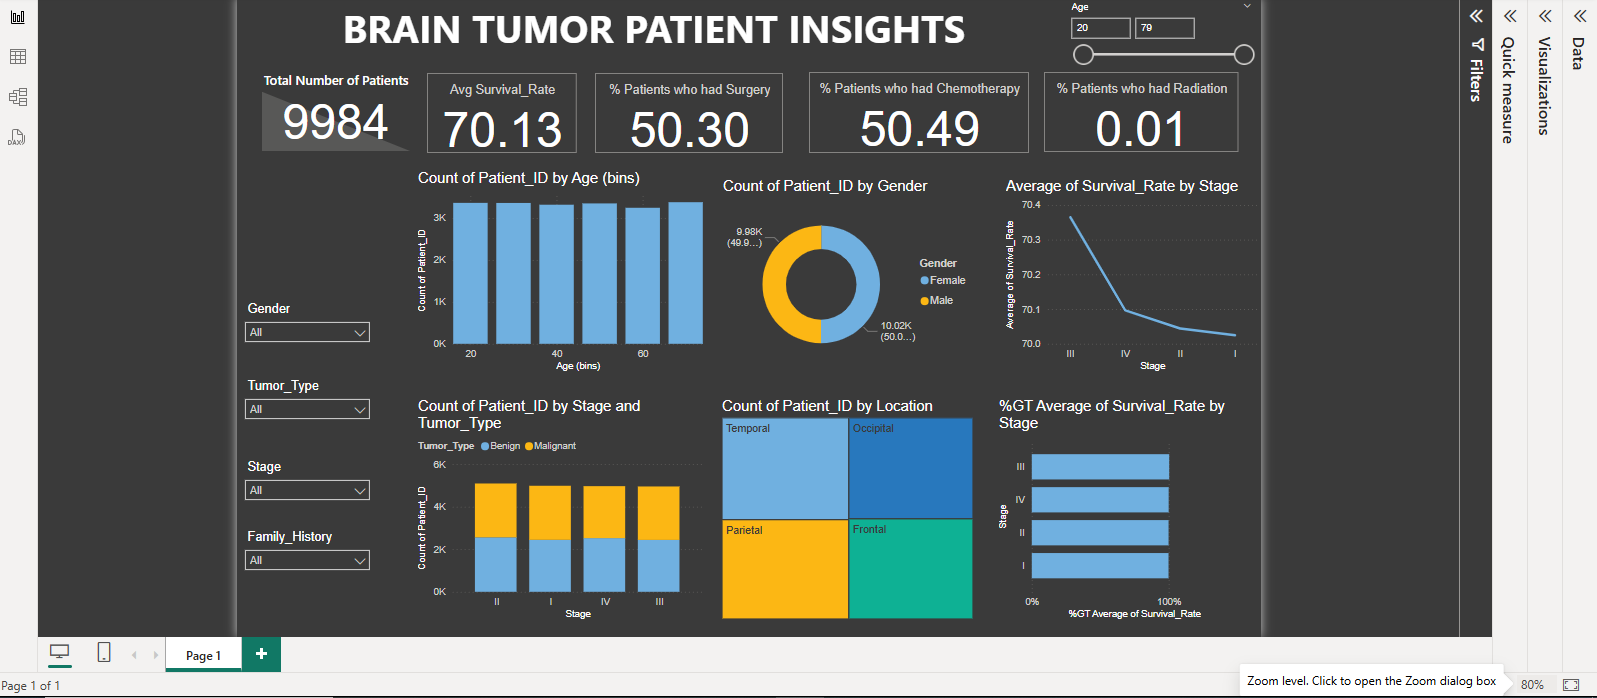

What the dashboard file says about the page in this screenshot:
{"tool":"powerbi","page":{"name":"Page 1","canvas":[1280,800],"ordinal":0},"visuals":[{"type":"columnChart","fields":{"Category":["brain_tumor_dataset.Age (bins)"],"Y":["CountNonNull(brain_tumor_dataset.Patient_ID)"]},"box":[221.2,215,366.2,257.5],"z":0},{"type":"donutChart","fields":{"Category":["brain_tumor_dataset.Gender"],"Y":["CountNonNull(brain_tumor_dataset.Patient_ID)"]},"box":[602.5,225,322.5,247.5],"z":1},{"type":"columnChart","fields":{"Category":["brain_tumor_dataset.Stage"],"Series":["brain_tumor_dataset.Tumor_Type"],"Y":["CountNonNull(brain_tumor_dataset.Patient_ID)"]},"box":[221.2,500,366.2,282.5],"z":2},{"type":"treemap","fields":{"Group":["brain_tumor_dataset.Location"],"Values":["CountNonNull(brain_tumor_dataset.Patient_ID)"]},"box":[601.2,500,323.8,282.5],"z":3},{"type":"lineChart","fields":{"Y":["Avg(brain_tumor_dataset.Survival_Rate)"],"Category":["brain_tumor_dataset.Stage"]},"box":[956.2,225,323.8,247.5],"z":4},{"type":"barChart","fields":{"Y":["Sum(brain_tumor_dataset.Survival_Rate)"],"Category":["brain_tumor_dataset.Stage"]},"box":[947.5,500,323.8,282.5],"z":5},{"type":"kpi","title":"Total Number of Patients","fields":{"Indicator":["CountNonNull(brain_tumor_dataset.Patient_ID)"],"TrendLine":["brain_tumor_dataset.Gender"]},"box":[26.2,92.5,195,105],"z":6},{"type":"cardVisual","fields":{"Data":["Avg(brain_tumor_dataset.Survival_Rate)"]},"box":[232.5,90,197.5,110],"z":7},{"type":"cardVisual","fields":{"Data":["brain_tumor_dataset.Surgery Percentage"]},"box":[442.5,90,245,110],"z":8},{"type":"slicer","fields":{"Values":["brain_tumor_dataset.Tumor_Type"]},"box":[0,472.5,176.2,73.8],"z":9},{"type":"slicer","fields":{"Values":["brain_tumor_dataset.Age"]},"box":[1029.6,0,250.4,89.2],"z":10},{"type":"slicer","fields":{"Values":["brain_tumor_dataset.Stage"]},"box":[0,573.8,176.2,67.5],"z":11},{"type":"slicer","fields":{"Values":["brain_tumor_dataset.Gender"]},"box":[0,376.2,176.2,67.5],"z":12},{"type":"textbox","box":[12.5,0,1017.5,76.2],"z":14},{"type":"cardVisual","fields":{"Data":["brain_tumor_dataset.% Chemotherapy"]},"box":[710,88.8,285,111.2],"z":15},{"type":"cardVisual","fields":{"Data":["brain_tumor_dataset.% Patients who had Radiation"]},"box":[1003.8,88.8,253.8,110],"z":16},{"type":"slicer","fields":{"Values":["brain_tumor_dataset.Family_History"]},"box":[0,661.2,176.2,71.2],"z":17}]}

Visuals, with their boxes on the page's 1280x800 design canvas (x1, y1, x2, y2). These are canvas units, not pixel positions in the 1597x698 screenshot, which may show the page scaled, cropped or inside an application window:
columnChart - brain_tumor_dataset.Age (bins) x CountNonNull(brain_tumor_dataset.Patient_ID): region(221, 215, 587, 472)
donutChart - brain_tumor_dataset.Gender x CountNonNull(brain_tumor_dataset.Patient_ID): region(602, 225, 925, 472)
columnChart - brain_tumor_dataset.Stage x brain_tumor_dataset.Tumor_Type: region(221, 500, 587, 782)
treemap - brain_tumor_dataset.Location x CountNonNull(brain_tumor_dataset.Patient_ID): region(601, 500, 925, 782)
lineChart - Avg(brain_tumor_dataset.Survival_Rate) x brain_tumor_dataset.Stage: region(956, 225, 1280, 472)
barChart - Sum(brain_tumor_dataset.Survival_Rate) x brain_tumor_dataset.Stage: region(948, 500, 1271, 782)
"Total Number of Patients" kpi: region(26, 92, 221, 198)
cardVisual - Avg(brain_tumor_dataset.Survival_Rate): region(232, 90, 430, 200)
cardVisual - brain_tumor_dataset.Surgery Percentage: region(442, 90, 688, 200)
slicer - brain_tumor_dataset.Tumor_Type: region(0, 472, 176, 546)
slicer - brain_tumor_dataset.Age: region(1030, 0, 1280, 89)
slicer - brain_tumor_dataset.Stage: region(0, 574, 176, 641)
slicer - brain_tumor_dataset.Gender: region(0, 376, 176, 444)
textbox: region(12, 0, 1030, 76)
cardVisual - brain_tumor_dataset.% Chemotherapy: region(710, 89, 995, 200)
cardVisual - brain_tumor_dataset.% Patients who had Radiation: region(1004, 89, 1258, 199)
slicer - brain_tumor_dataset.Family_History: region(0, 661, 176, 732)
